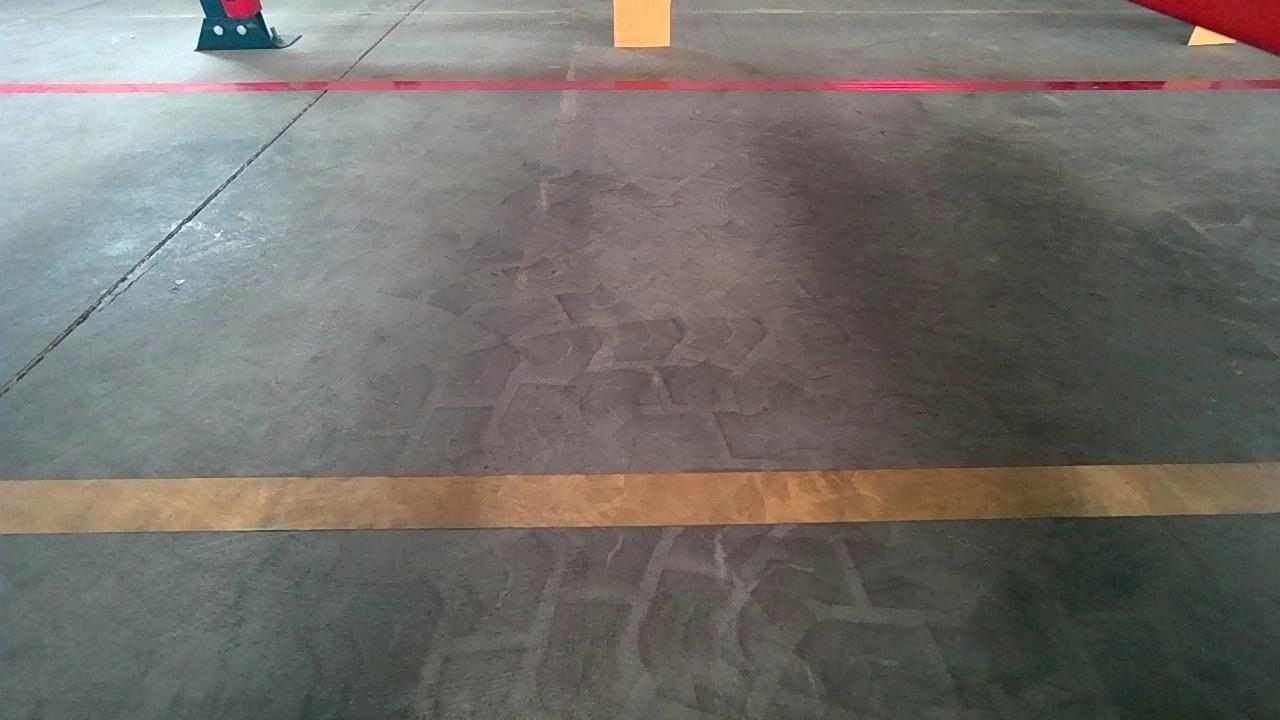h_rack: (1171, 10, 1268, 47)
orange_strip: (612, 0, 673, 47)
red_line: (0, 74, 1276, 99)
yellow_line: (0, 461, 1278, 533)
